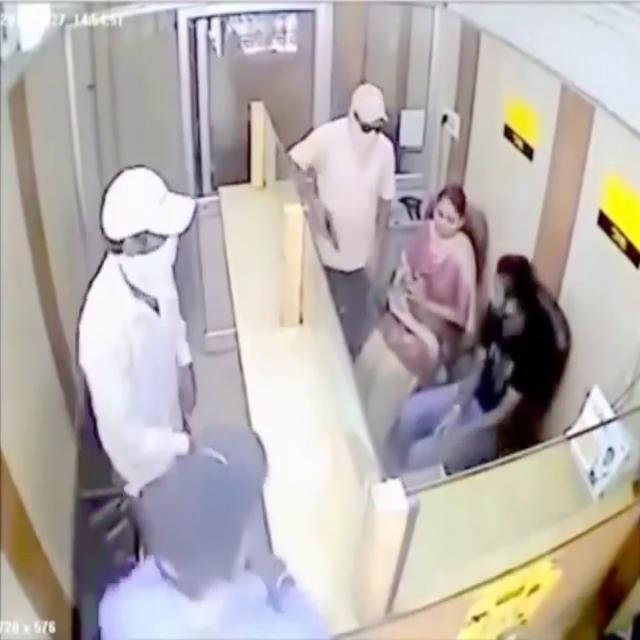fight: (397, 202, 578, 474)
